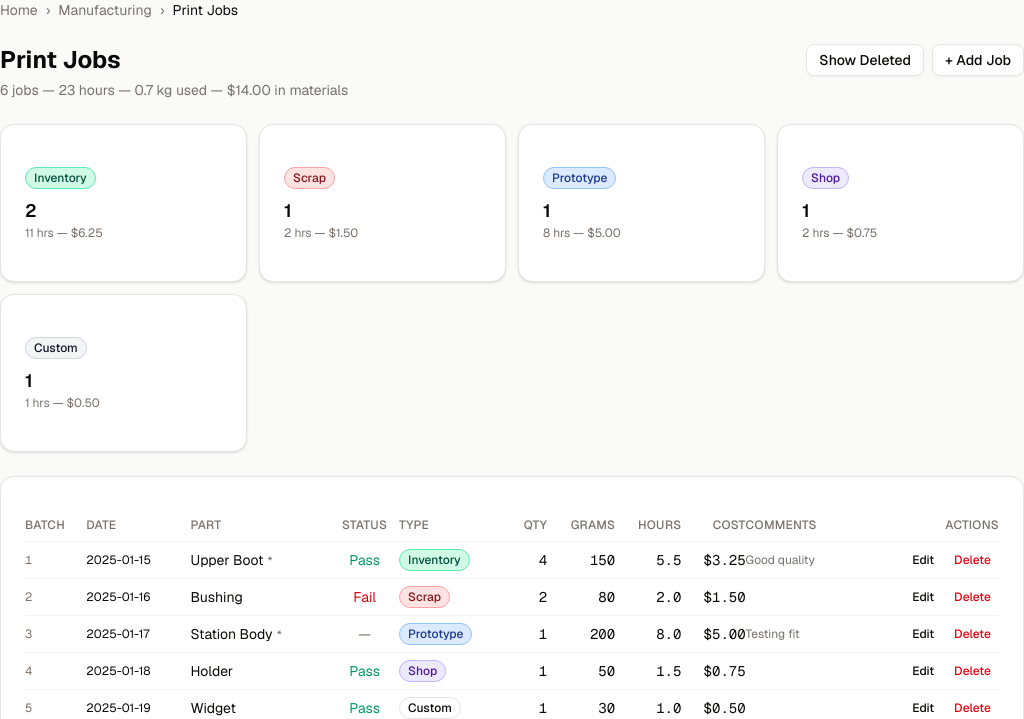
Test: PrintJobsPage › validates empty part on add
Click the button "+ Add Job".
click(978, 60)  # box [932,44,1023,76]
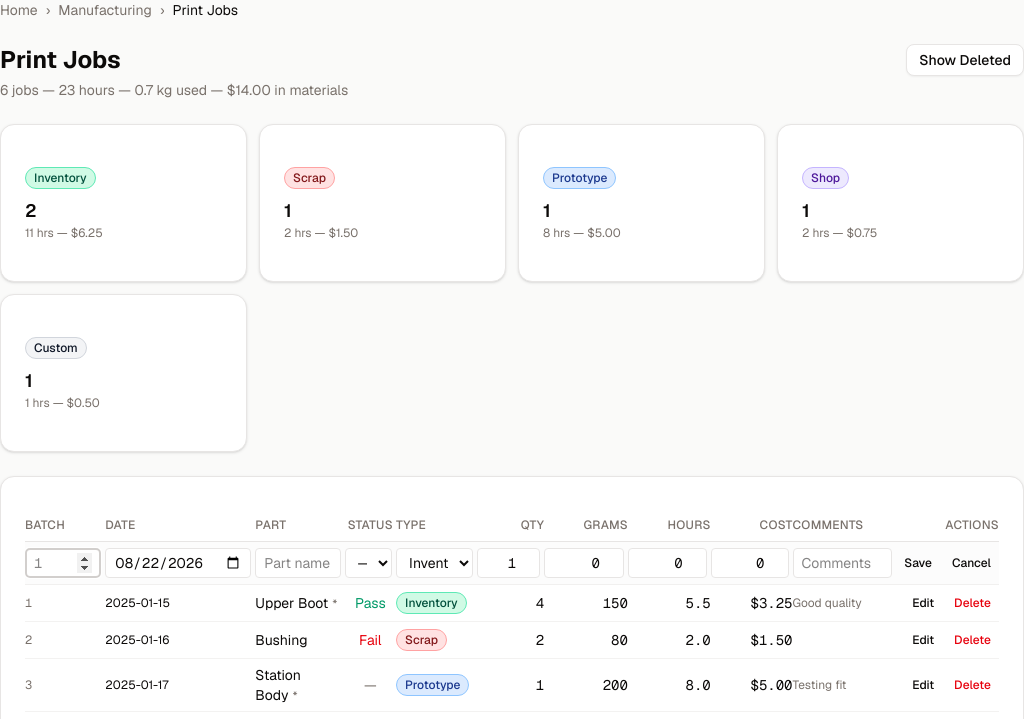
Type "5" into the number field with placeholder "1".
click(63, 563); type("5")  # box [25,548,101,578]
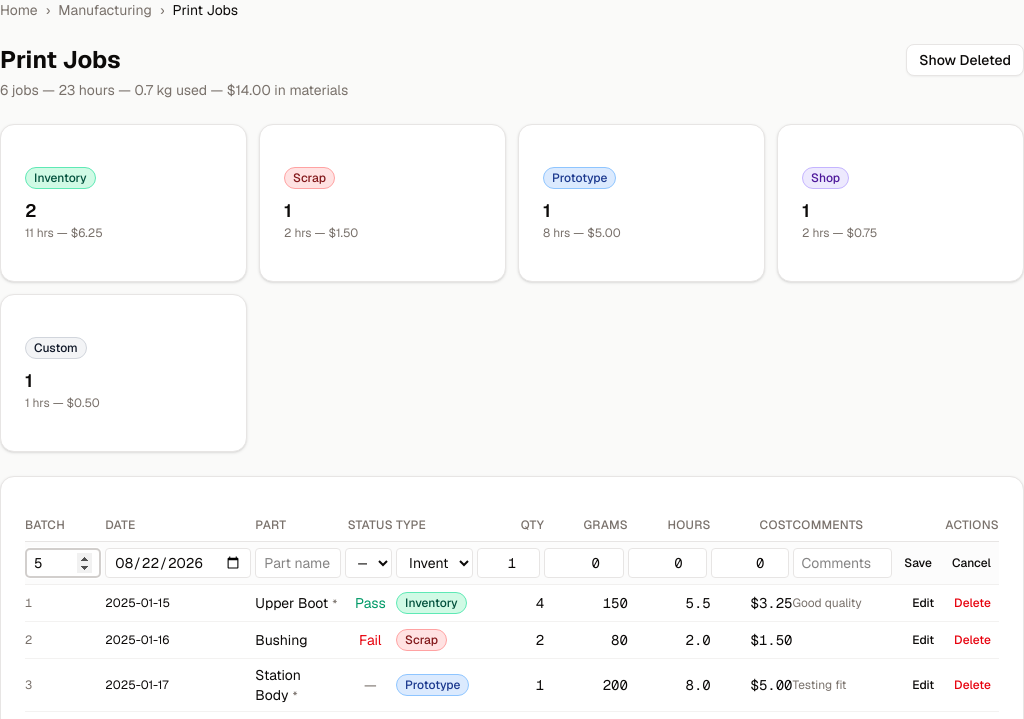
Click the button "Save".
click(918, 563)  # box [896,551,940,575]
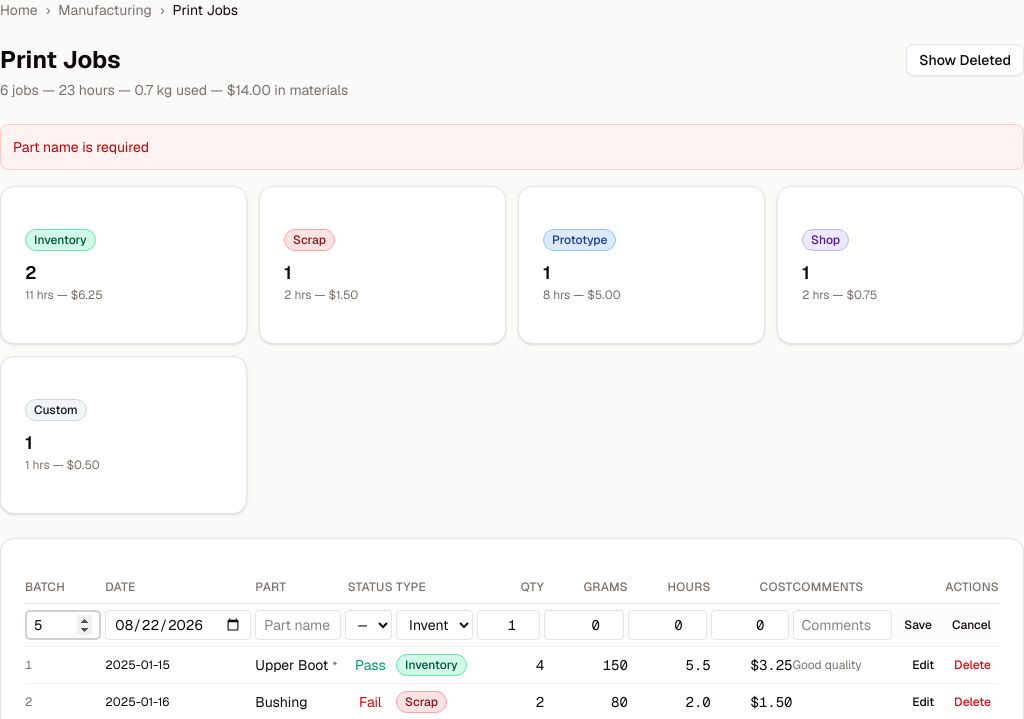
Check: the text "Part name is required" is shown, box [0,124,1023,170]
